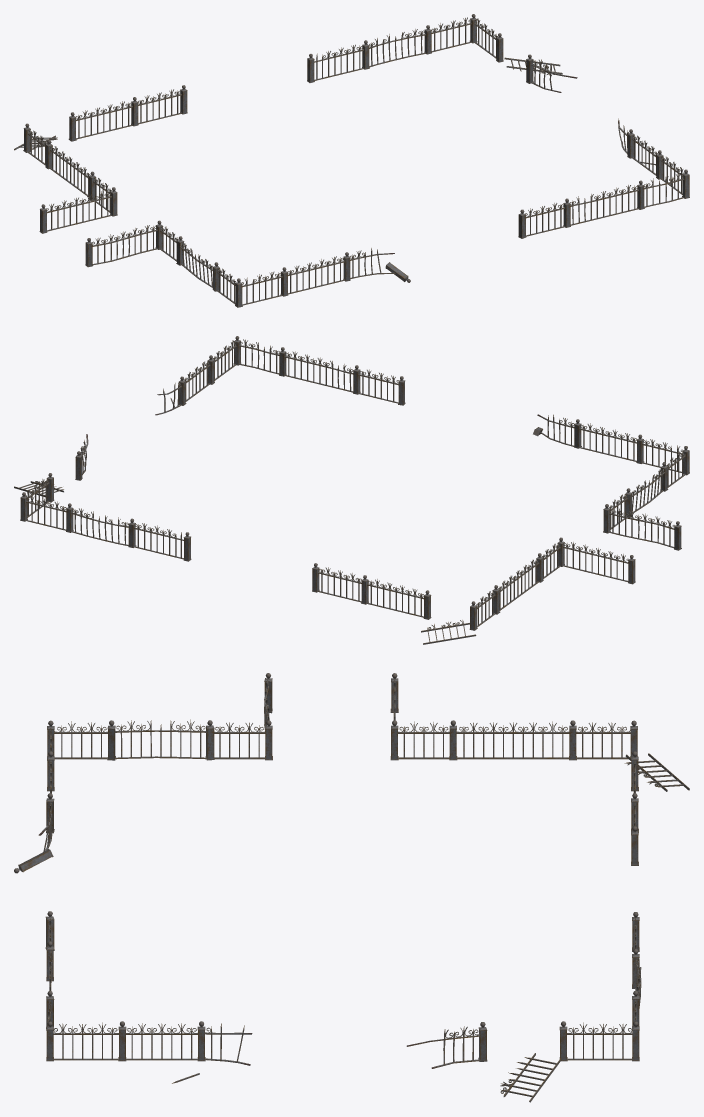
Rendered from Cemetery_STR_GraveBase_03_Wall_01_Fence.fbx.
3 renders of one model, top to bottom at view 1: azimuth 30°, elevation 25°; view 2: azimuth 150°, elevation 25°; view 3: azimuth 270°, elevation 25°, orthographic. The views are drawn at different scales.
Parts seen in each view (by area): view 1: Cemetery_STR_GraveBase_03_Wall_01_Fence; view 2: Cemetery_STR_GraveBase_03_Wall_01_Fence; view 3: Cemetery_STR_GraveBase_03_Wall_01_Fence.
Part boxes in pixels (<box>): Cemetery_STR_GraveBase_03_Wall_01_Fence: <box>14,14,689,307</box>; Cemetery_STR_GraveBase_03_Wall_01_Fence: <box>14,336,689,644</box>; Cemetery_STR_GraveBase_03_Wall_01_Fence: <box>14,673,689,1102</box>.
Bounding box in the file's own units: 2319 × 140 × 1731.
Materials: 1 (1 with a texture image).
